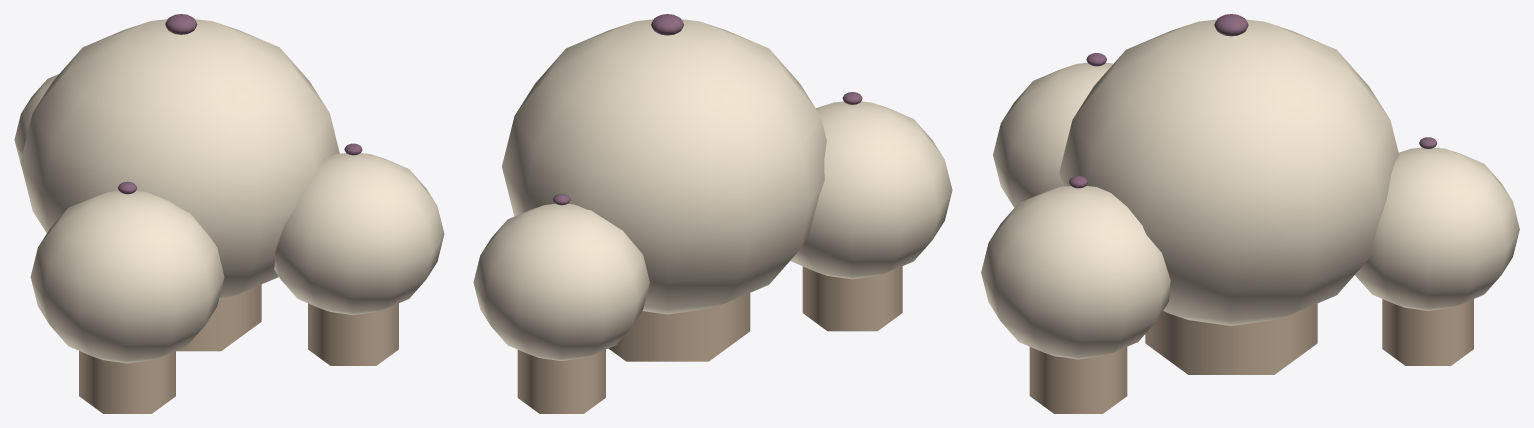
File: puffball.glb
The picture shows the model from 3 angles, left to right: view 1: azimuth 30°, elevation 25°; view 2: azimuth 150°, elevation 25°; view 3: azimuth 270°, elevation 25°; orthographic projection. The views are drawn at different scales.
Visible parts, largest first — view 1: Vesper / puffball; view 2: Vesper / puffball; view 3: Vesper / puffball.
Part boxes in pixels (bbox=[...]): Vesper / puffball: bbox=[14, 14, 444, 413]; Vesper / puffball: bbox=[473, 14, 952, 413]; Vesper / puffball: bbox=[981, 14, 1519, 413].
Size of the model in its own units: 1.31 by 1.01 by 1.5.
